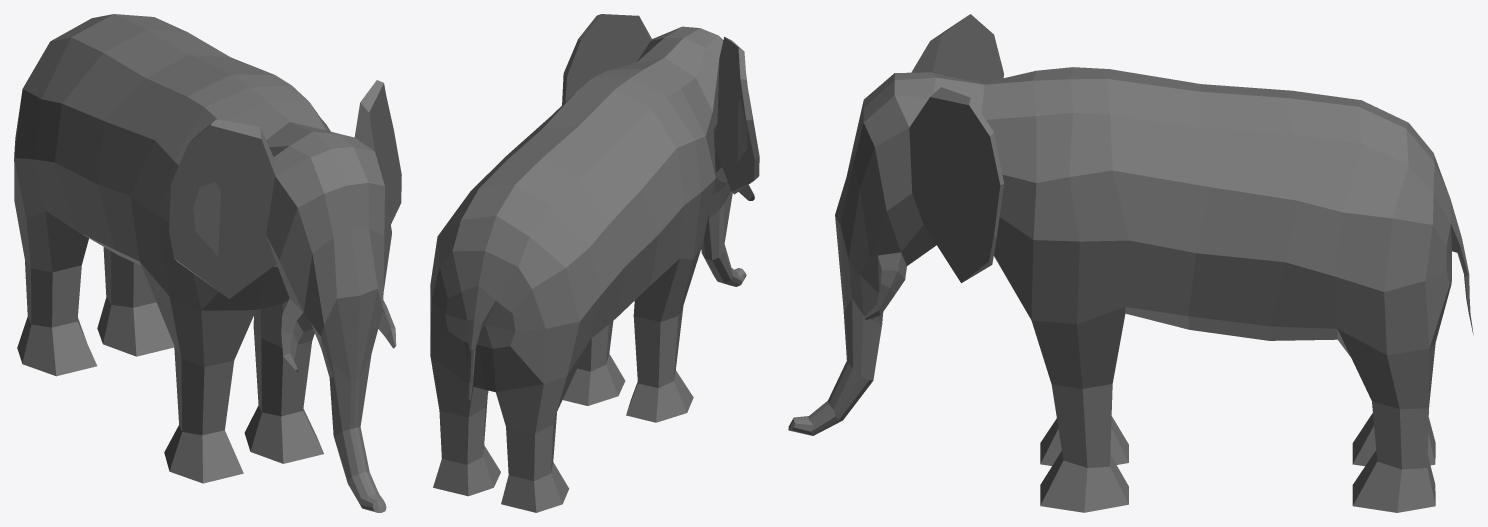
Rendered from Elephant.fbx.
3 views of the same model, side by side, from view 1: azimuth 30°, elevation 25°; view 2: azimuth 150°, elevation 25°; view 3: azimuth 270°, elevation 25° (orthographic). The views are drawn at different scales.
Visible parts, largest first — view 1: Elephant; view 2: Elephant; view 3: Elephant.
Boxes of the visible parts, x1=… form: Elephant: x1=14, y1=14, x2=401, y2=512; Elephant: x1=430, y1=14, x2=759, y2=512; Elephant: x1=788, y1=14, x2=1473, y2=512.
Size of the model in its own units: 38.64 by 62.34 by 92.43.
